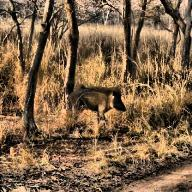boar: (61, 74, 129, 127)
